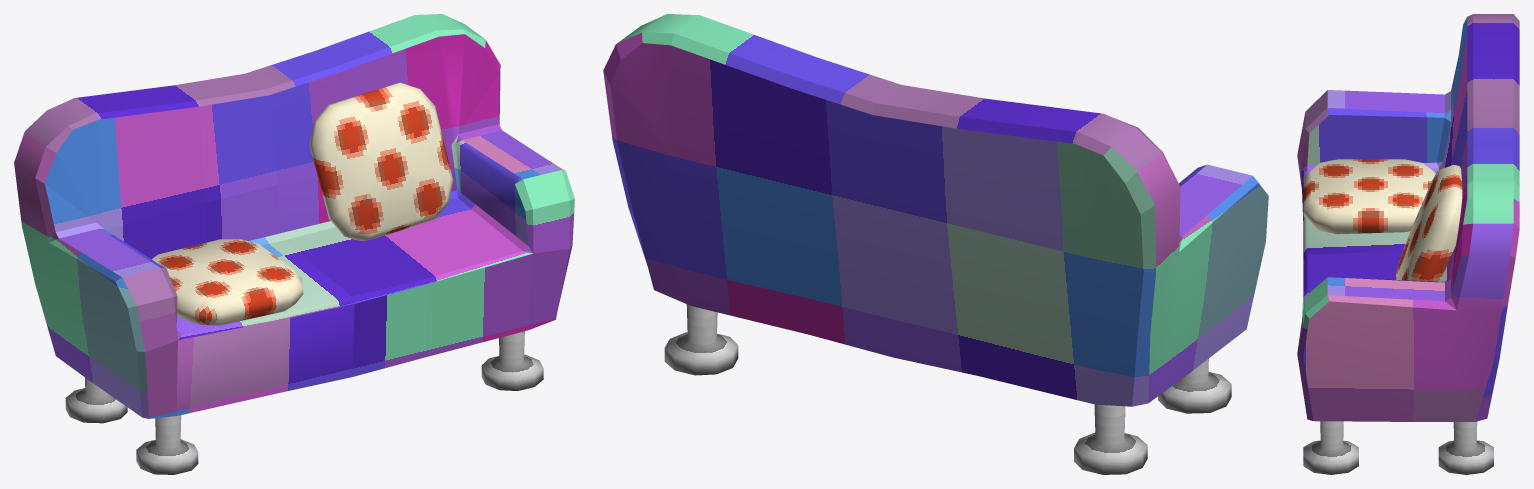
Rendered from rmk_dot_chairL_jwl.dae.
3 views of the same model, side by side, from view 1: azimuth 30°, elevation 25°; view 2: azimuth 150°, elevation 25°; view 3: azimuth 270°, elevation 25° (orthographic). The views are drawn at different scales.
Visible parts, largest first — view 1: rmk_dot_chairL_jwl; view 2: rmk_dot_chairL_jwl; view 3: rmk_dot_chairL_jwl.
Boxes of the visible parts, x1,y1,x2,y2 form: rmk_dot_chairL_jwl: (14,14,574,474); rmk_dot_chairL_jwl: (603,14,1268,474); rmk_dot_chairL_jwl: (1297,14,1519,474).
Size of the model in its own units: 59.23 by 35.76 by 25.65.
3 materials, 3 textured.
